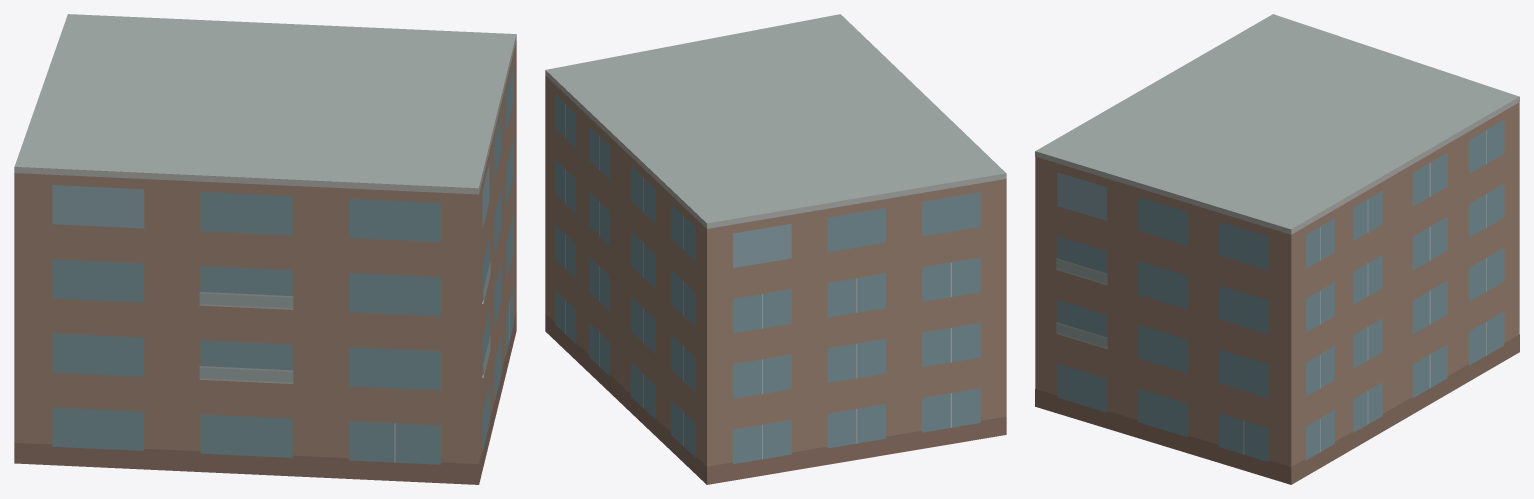
The model's file is survey-upis-32477191.glb.
The picture shows the model from 3 angles, left to right: view 1: azimuth 30°, elevation 25°; view 2: azimuth 150°, elevation 25°; view 3: azimuth 270°, elevation 25°; orthographic projection. The views are drawn at different scales.
Visible parts, largest first — view 1: survey-upis-32477191.tmp; view 2: survey-upis-32477191.tmp; view 3: survey-upis-32477191.tmp.
Part boxes in pixels (x1,y1,x2,y2): survey-upis-32477191.tmp: (14, 14, 516, 484); survey-upis-32477191.tmp: (545, 14, 1006, 484); survey-upis-32477191.tmp: (1035, 14, 1519, 484).
Bounding box in the file's own units: 20.99 × 11.6 × 19.95.
